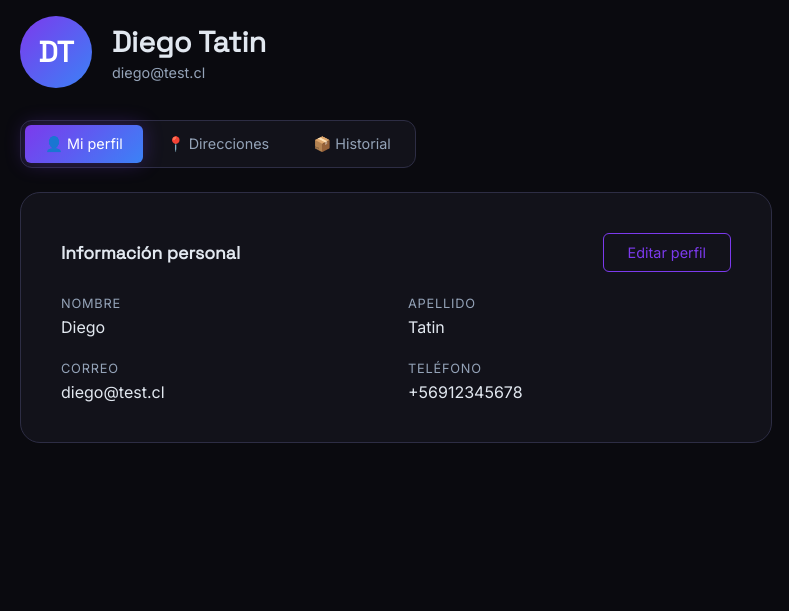
HU-06 · Gestión de perfil › CA5: cancelar edición vuelve a la vista de perfil
Click the button with test id "btn-editar": (667, 252) x1=603 y1=233 x2=731 y2=272
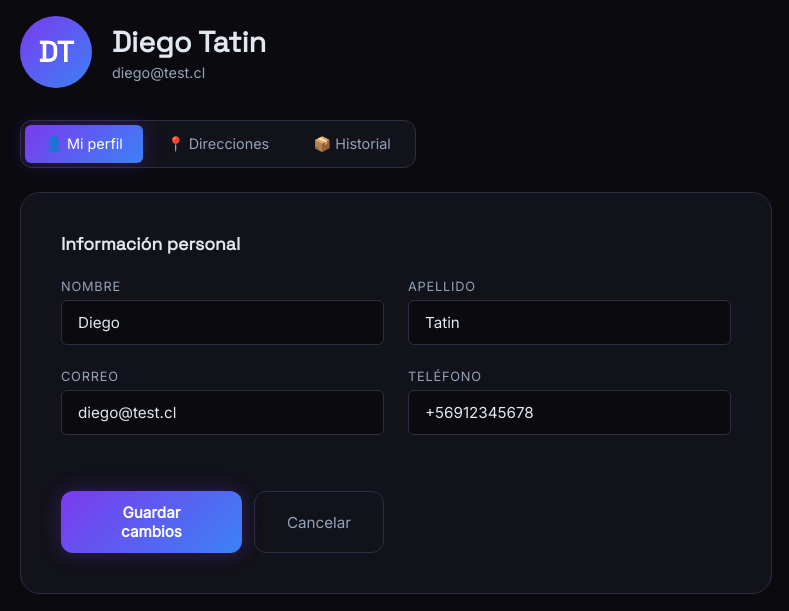
Click the button with test id "btn-cancelar": (319, 522) x1=254 y1=491 x2=384 y2=553
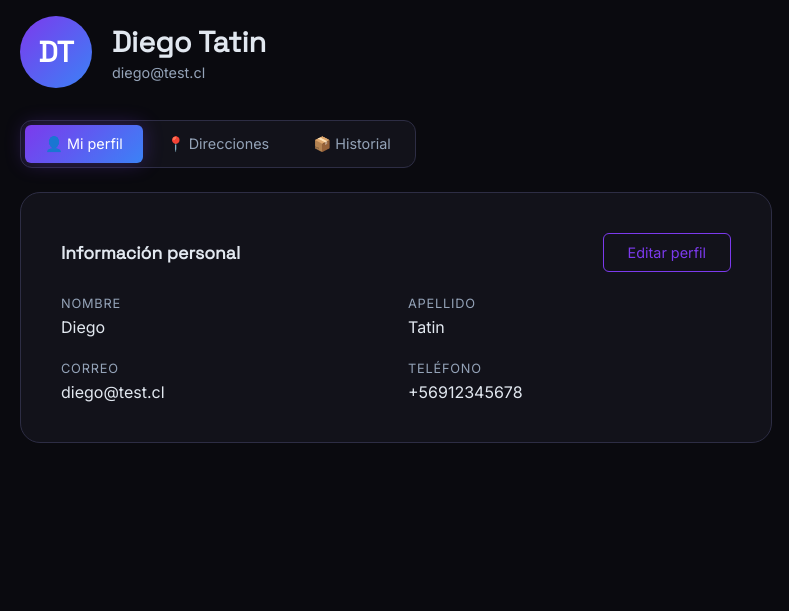
Now the element with test id "vista-perfil" is shown, box x1=61 y1=296 x2=522 y2=402
